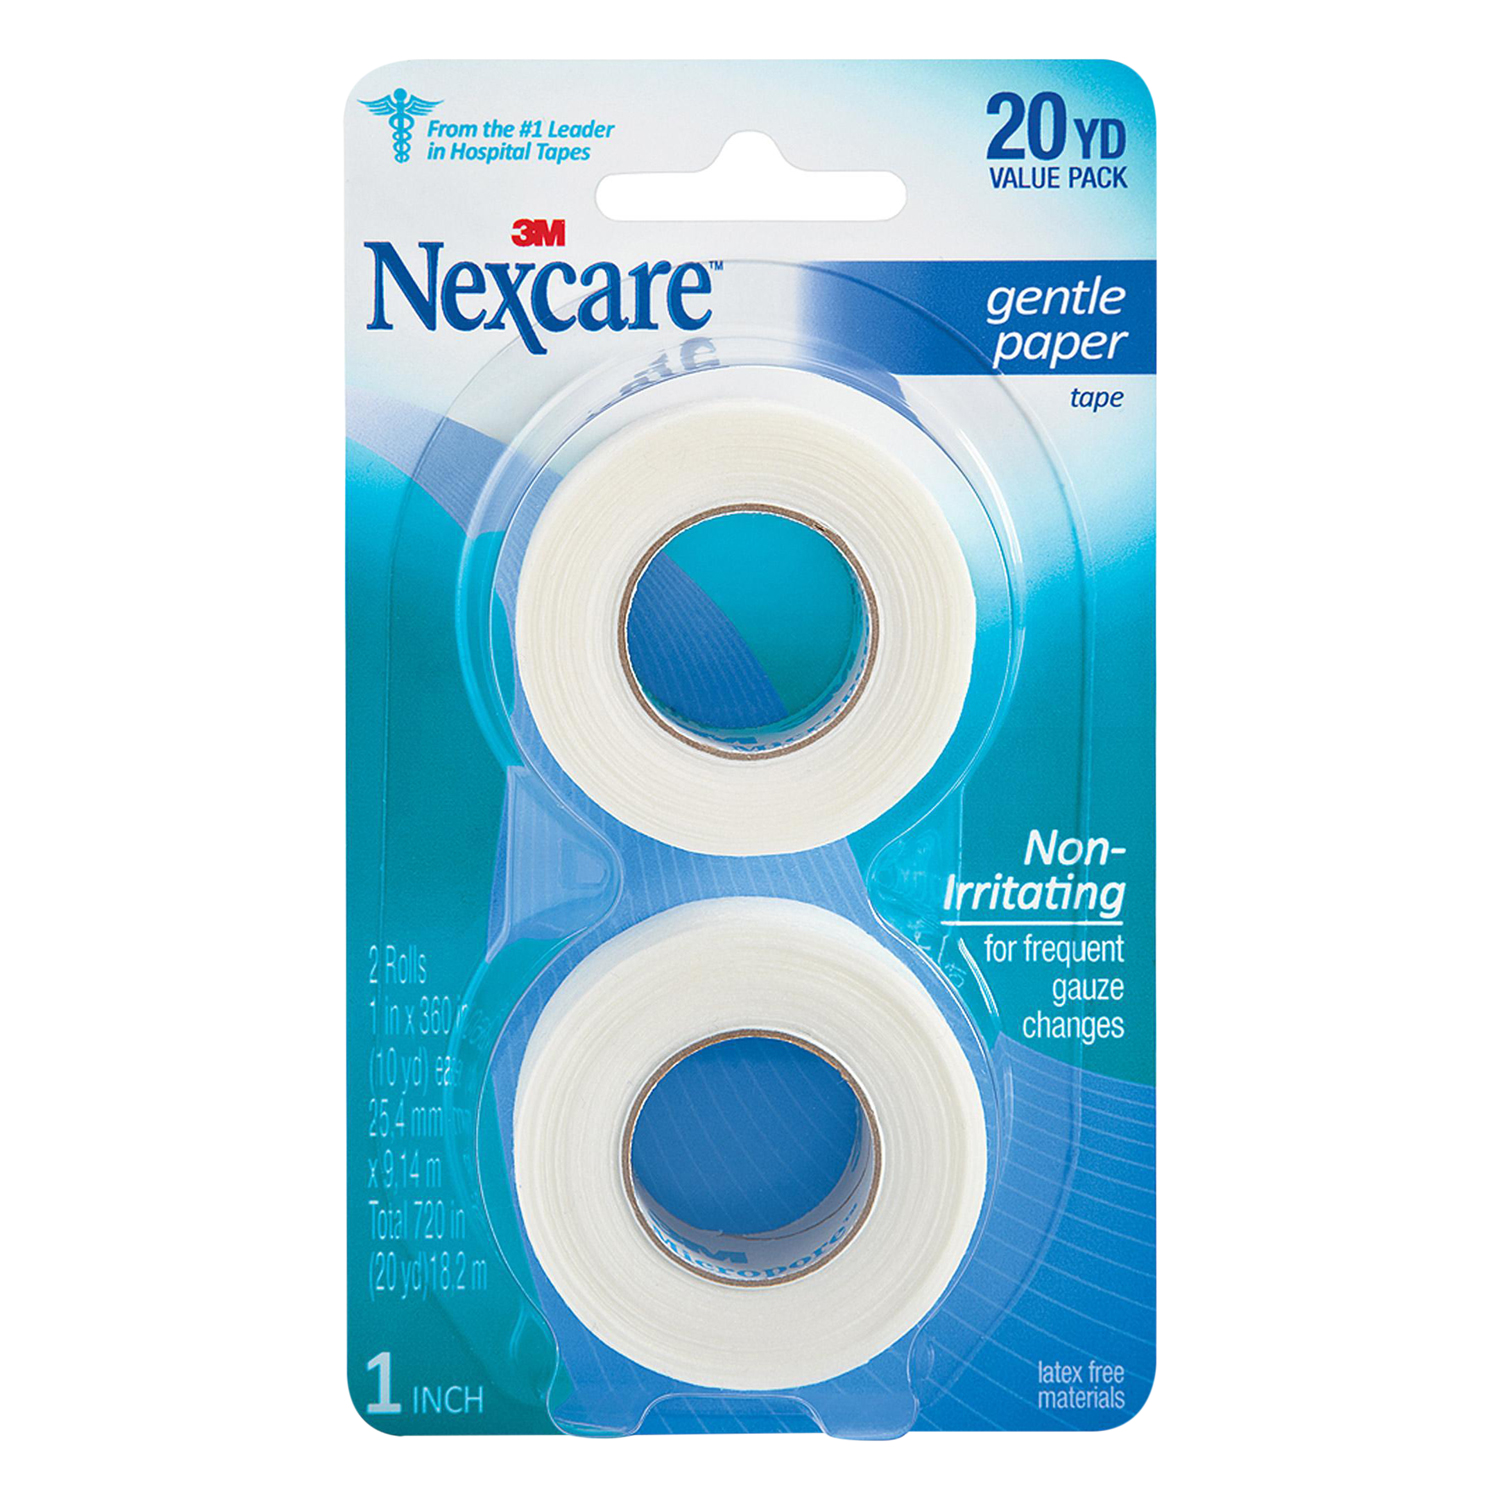3M: (514, 210, 571, 249)
